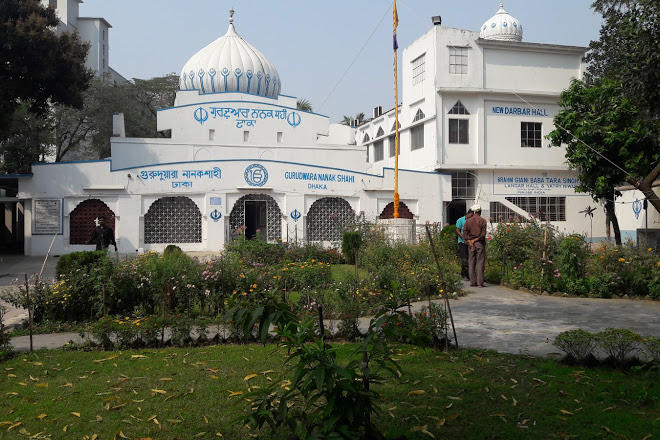Gurdwara: (25, 10, 416, 267)
